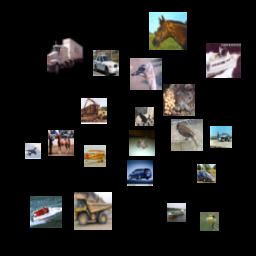airplane: (84, 145, 106, 167), (210, 126, 232, 148), (25, 143, 41, 159)
automobile: (127, 160, 153, 186), (93, 50, 119, 76)
bird: (171, 119, 203, 151), (130, 58, 162, 90), (200, 212, 219, 231)
cat: (135, 107, 154, 126)
frog: (163, 84, 195, 116), (129, 130, 155, 156)
ship: (206, 43, 241, 78), (30, 196, 62, 228), (167, 203, 186, 222)
